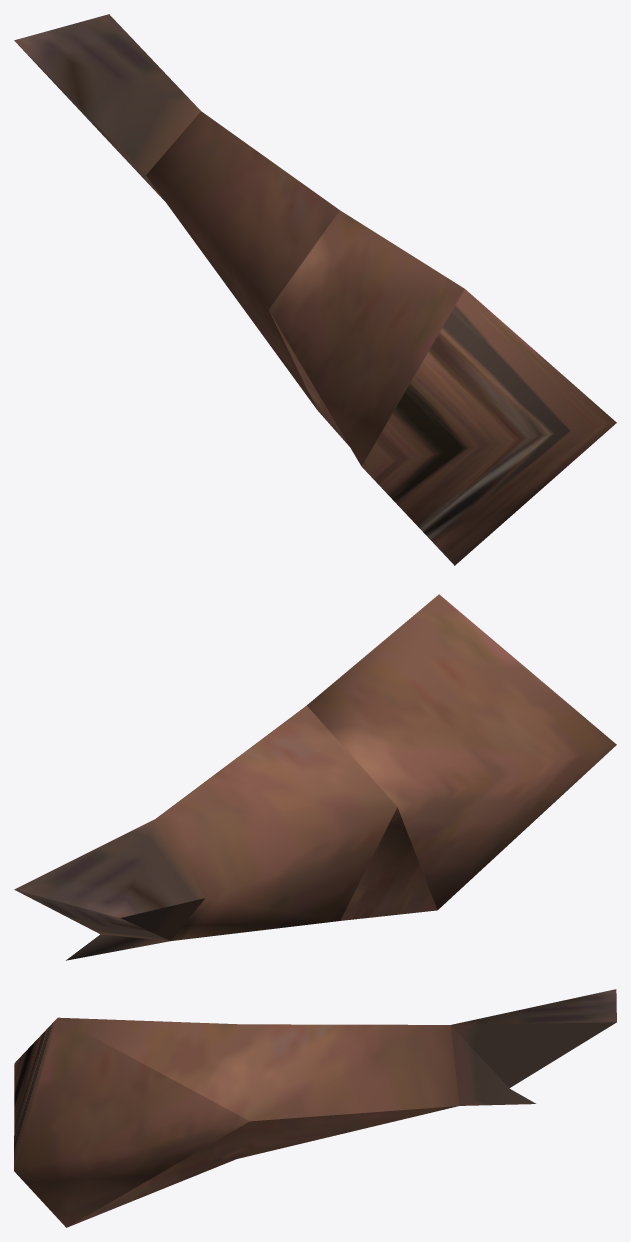
File: BrazoIzqMarlene.obj
3 renders of one model, top to bottom at view 1: azimuth 30°, elevation 25°; view 2: azimuth 150°, elevation 25°; view 3: azimuth 270°, elevation 25°, orthographic. The views are drawn at different scales.
Parts seen in each view (by area): view 1: BrazoIzqMarlene; view 2: BrazoIzqMarlene; view 3: BrazoIzqMarlene.
Part boxes in pixels (bbox=[...]): BrazoIzqMarlene: bbox=[14, 14, 616, 565]; BrazoIzqMarlene: bbox=[14, 594, 616, 960]; BrazoIzqMarlene: bbox=[14, 989, 616, 1227].
Size of the model in its own units: 1.63 by 1.72 by 4.41.
1 material, 1 textured.
